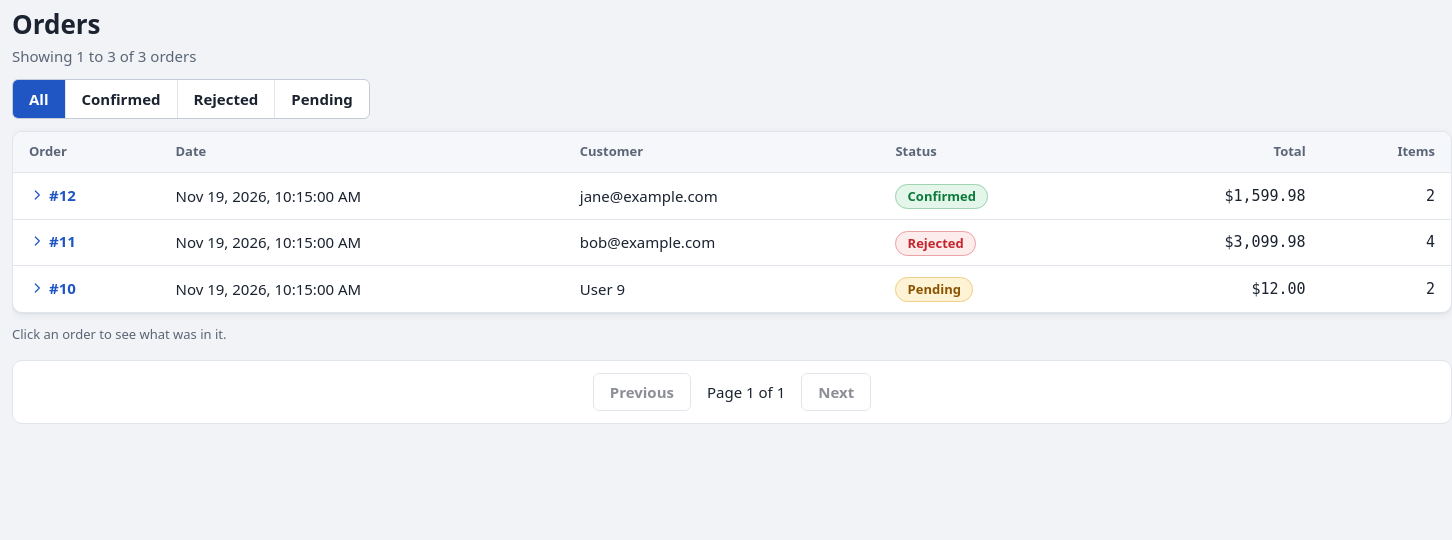
it: Admin orders page › opening an order › shows no reason for an order that was not rejected
The image size is (1452, 540).
Expected: the text "jane@example.com" is shown, x1=564 y1=173 x2=879 y2=219
Click the text "jane@example.com" at (732, 196), box x1=13 y1=173 x2=1451 y2=219
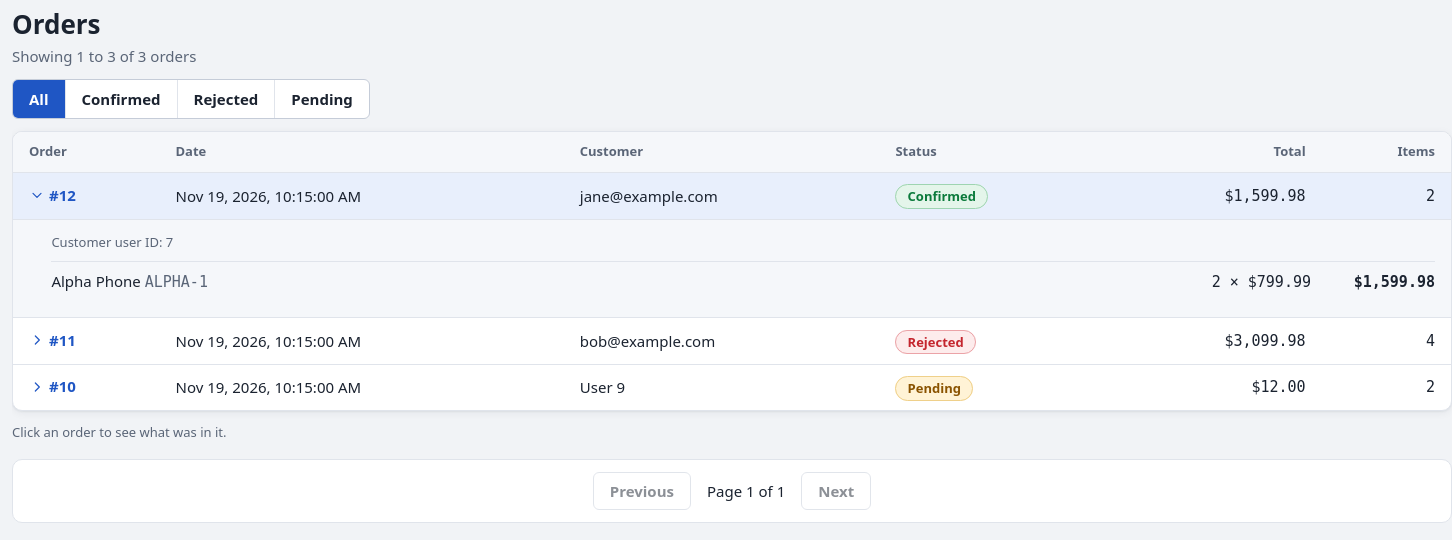
Now the text "Alpha Phone" is shown, box x1=51 y1=271 x2=141 y2=291
